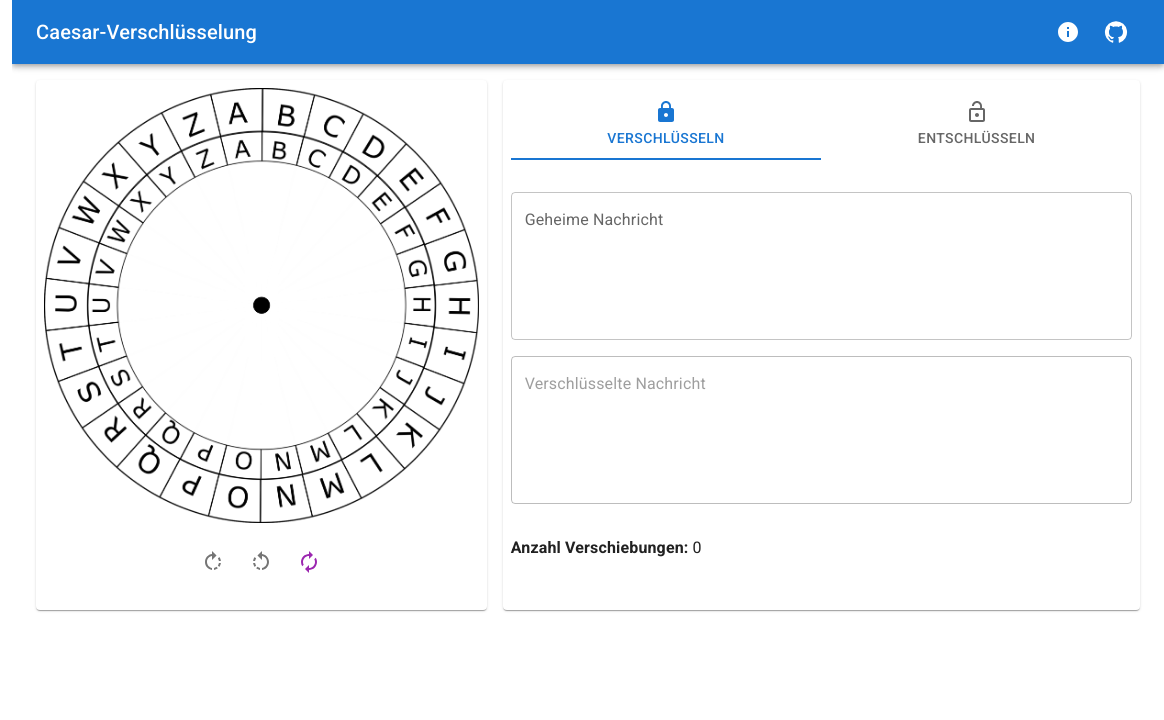
Test: rotate cipher disk clockwise: encrypted message
Type "ABC" into the text box labelled "Geheime Nachricht" at [821, 266], box [525,208,1118,324]
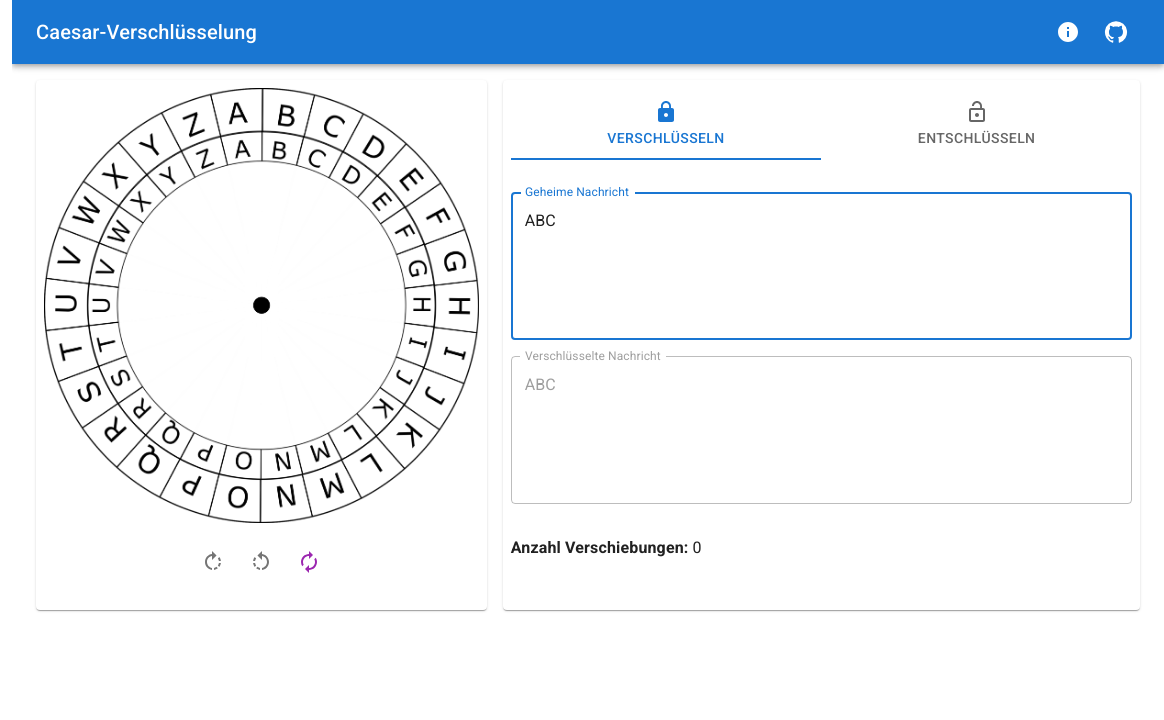
Click the button named "Im Uhrzeigersinn" at [213, 562], box [189,538,237,586]
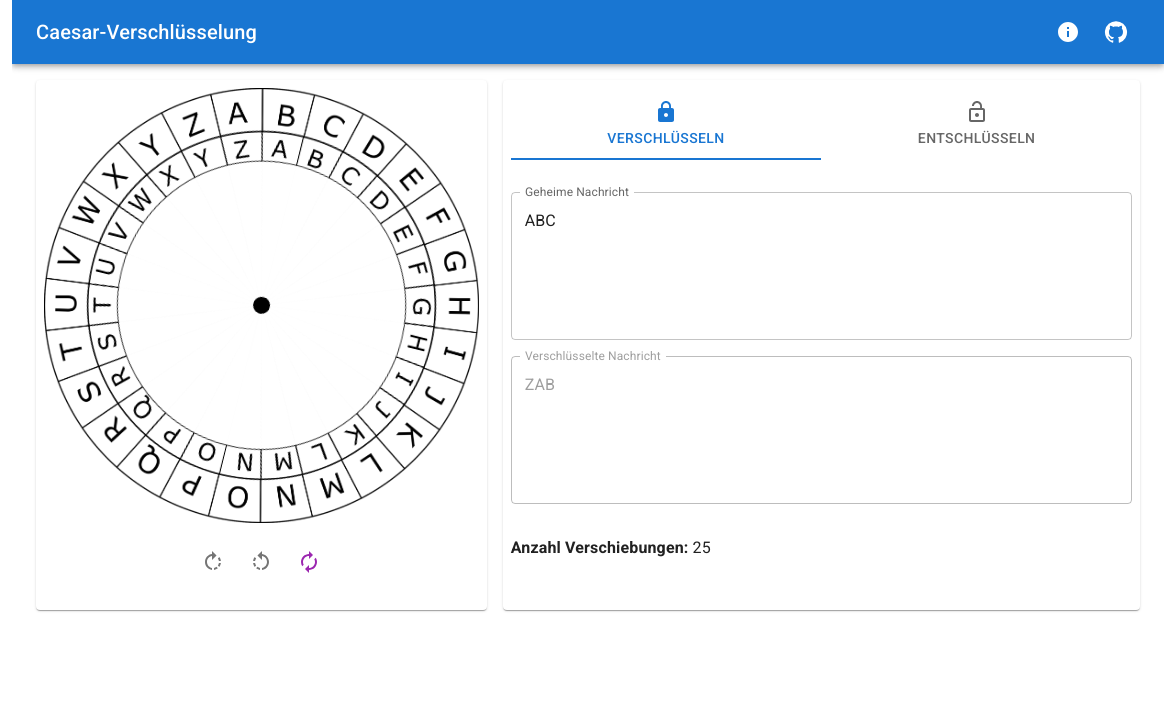
Check: the text box labelled "Verschlüsselte Nachricht" holds "ZAB", box [525,372,1118,488]
